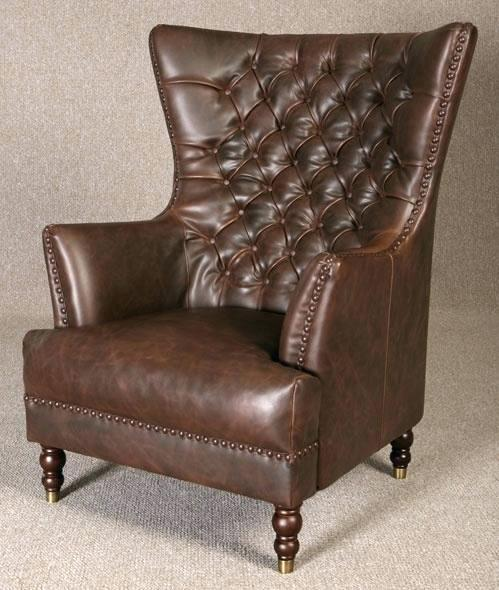chairs: (18, 22, 481, 577)
